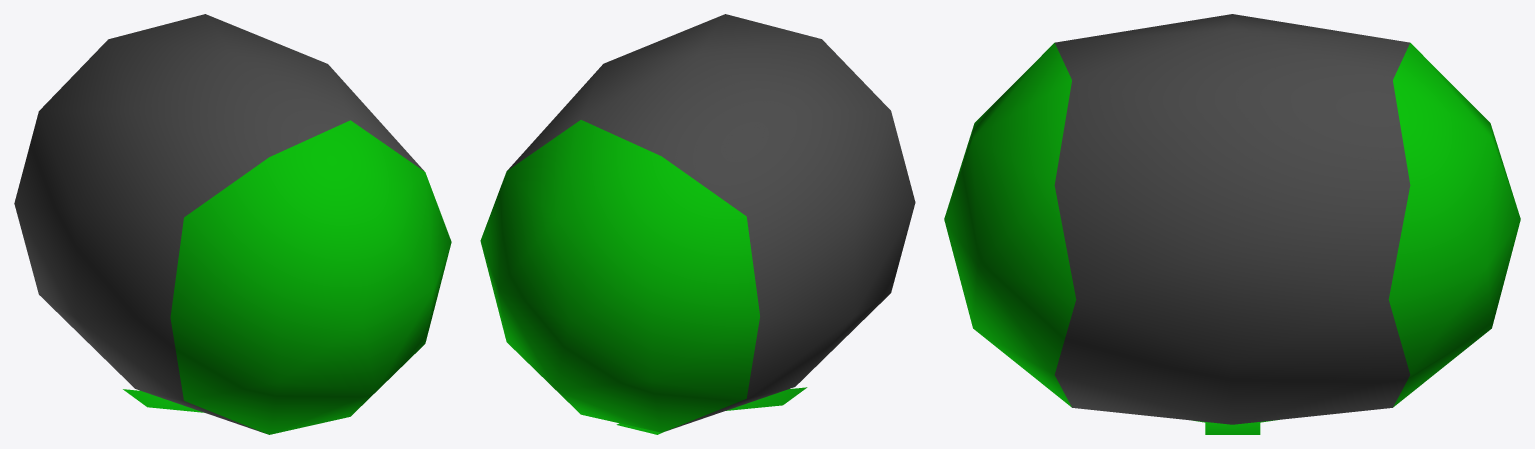
The model's file is extralife.fbx.
The picture shows the model from 3 angles, left to right: view 1: azimuth 30°, elevation 25°; view 2: azimuth 150°, elevation 25°; view 3: azimuth 270°, elevation 25°; orthographic projection. The views are drawn at different scales.
Visible parts, largest first — view 1: Icosphere; view 2: Icosphere; view 3: Icosphere.
Boxes of the visible parts, bbox=[...] form: Icosphere: bbox=[14, 14, 451, 434]; Icosphere: bbox=[480, 14, 915, 434]; Icosphere: bbox=[944, 14, 1520, 434].
Bounding box in the file's own units: 0.6501 × 0.9421 × 0.6881.
